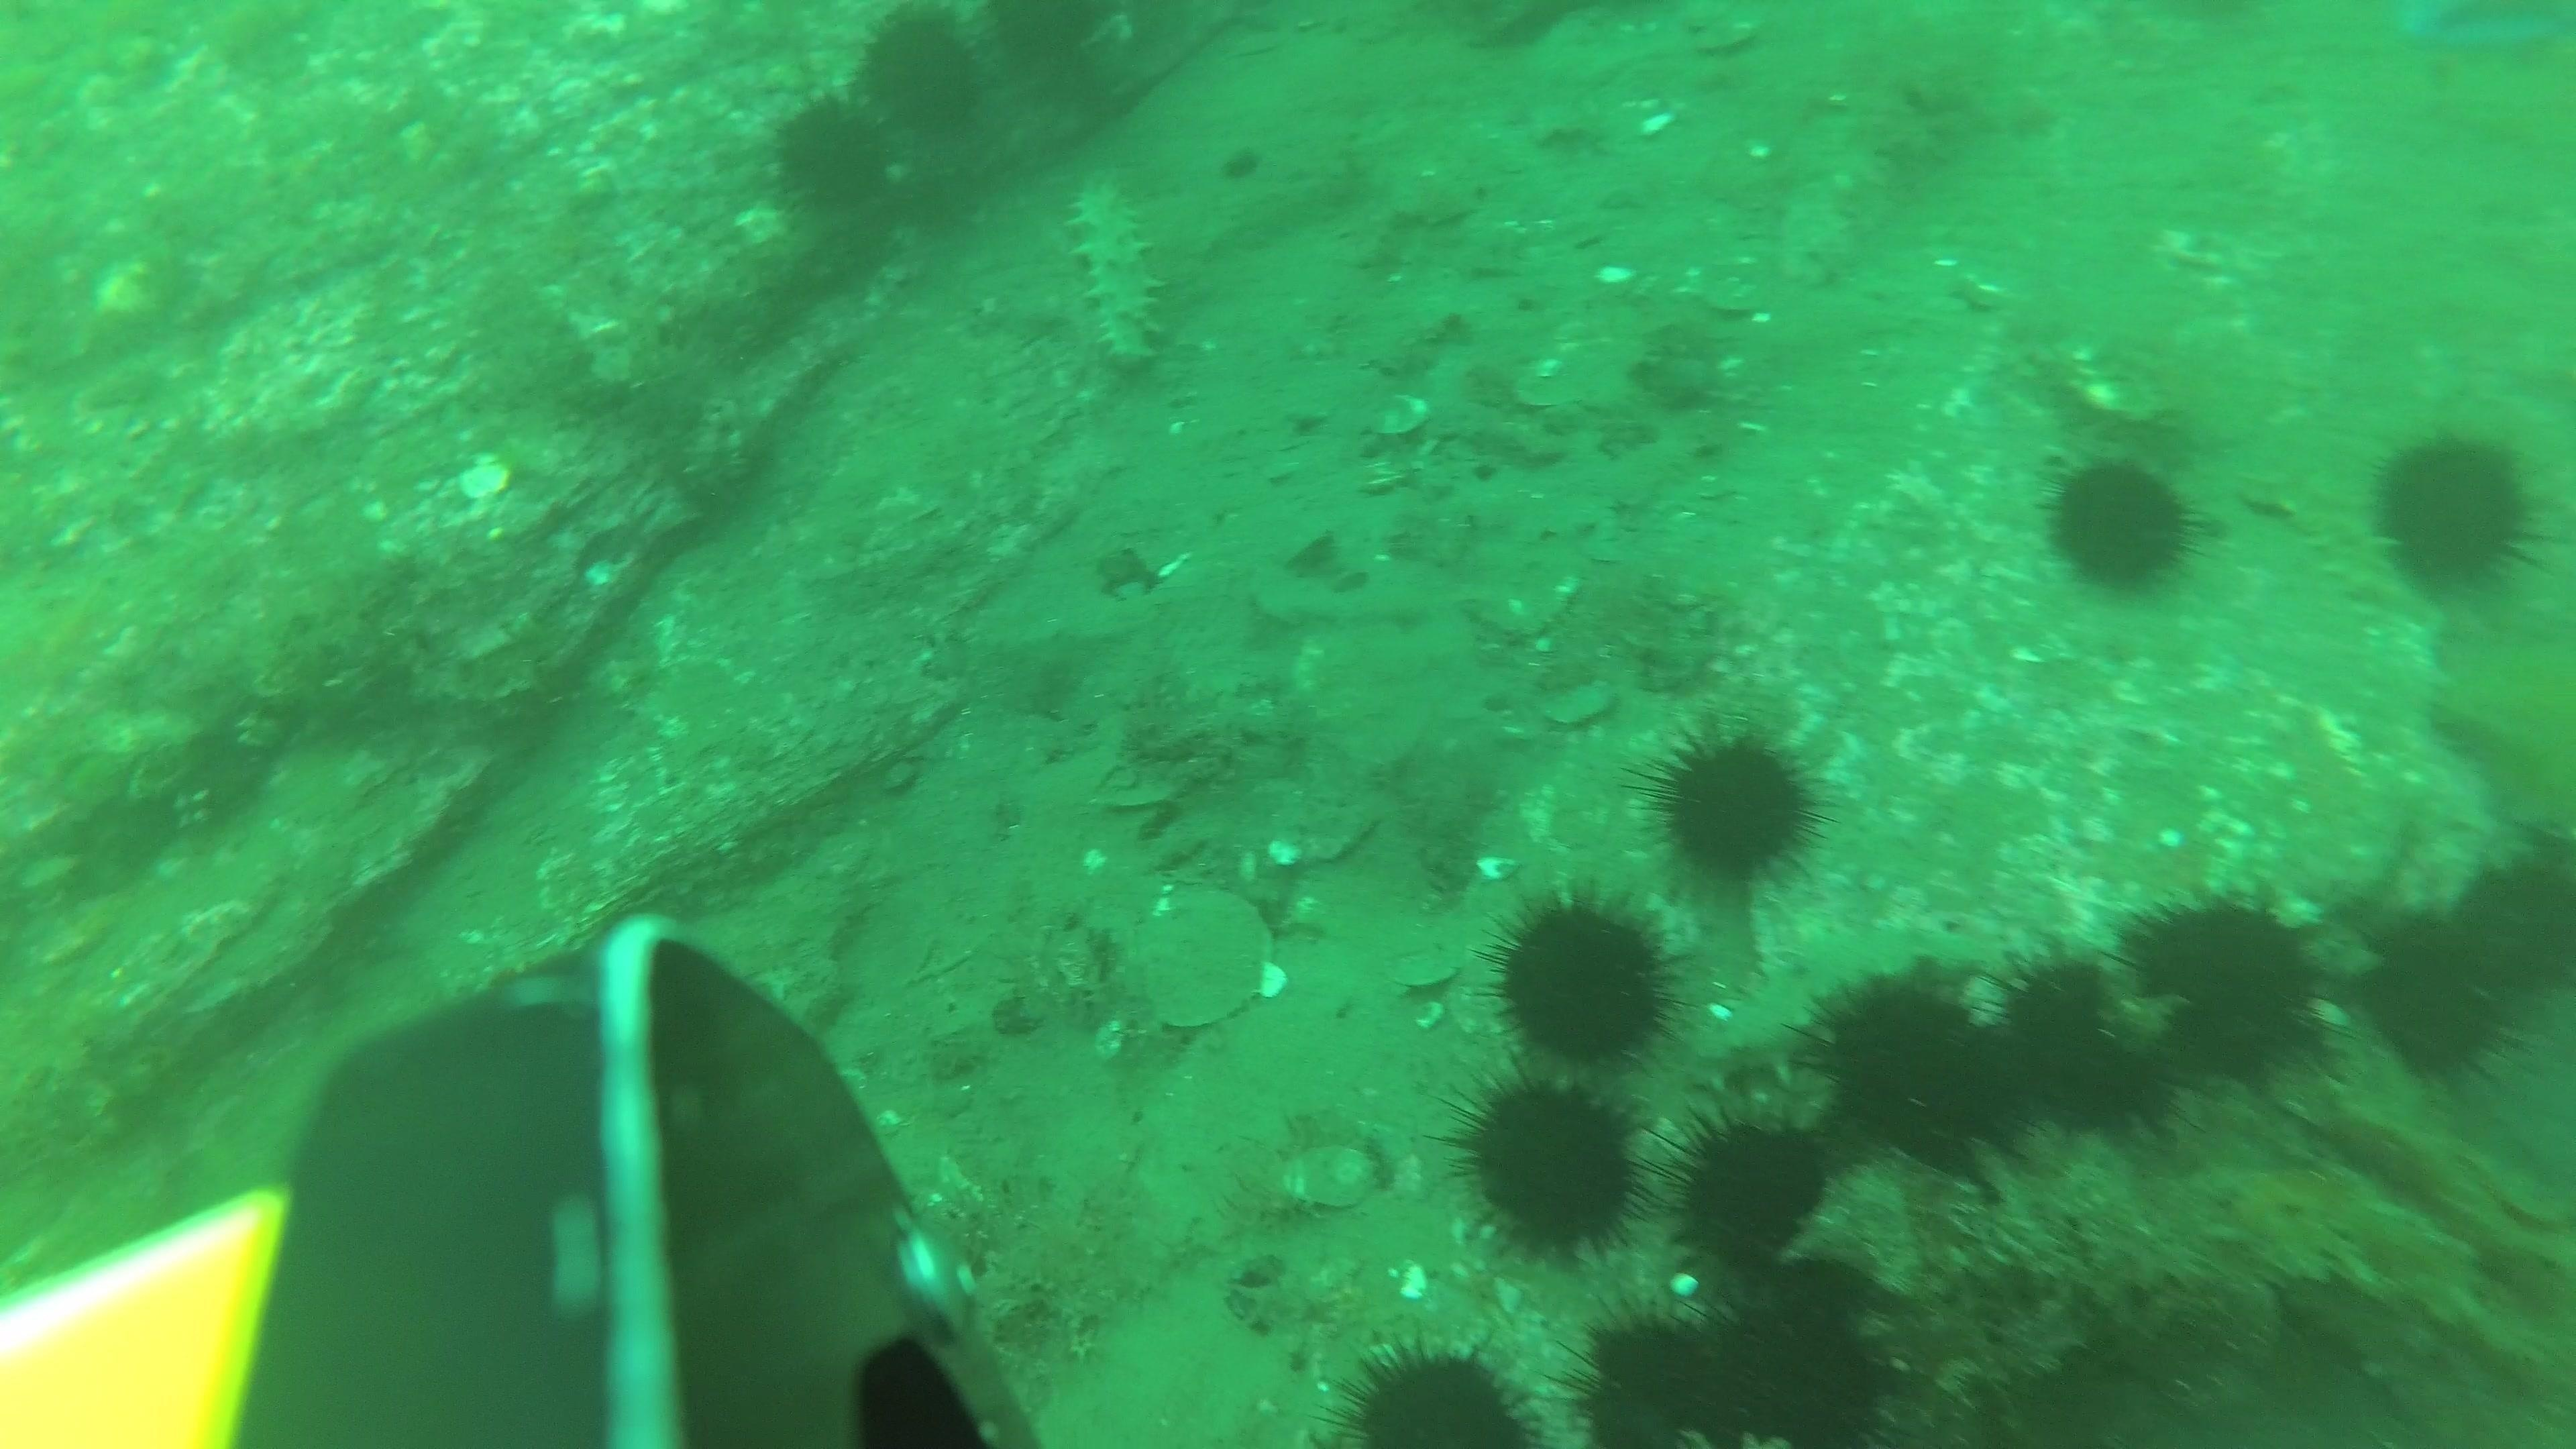echinus: (1560, 1279, 1898, 1445), (1796, 964, 2024, 1173), (2114, 885, 2335, 1086), (1444, 1065, 1651, 1261), (1982, 945, 2189, 1138), (1483, 885, 1683, 1072), (1640, 722, 1829, 892), (2364, 425, 2542, 600), (2350, 913, 2521, 1085), (1663, 1104, 1838, 1270), (1560, 1304, 1736, 1444), (2043, 453, 2201, 598), (1334, 1338, 1541, 1444), (2454, 835, 2574, 994), (853, 9, 991, 143), (768, 92, 895, 219), (980, 0, 1116, 80)
holothurian: (1652, 936, 1973, 1072), (1058, 170, 1169, 386)
scallop: (1116, 886, 1279, 1035), (1681, 4, 1766, 58), (1391, 943, 1460, 994)
starfish: (2429, 623, 2574, 846), (2390, 2, 2571, 67)
